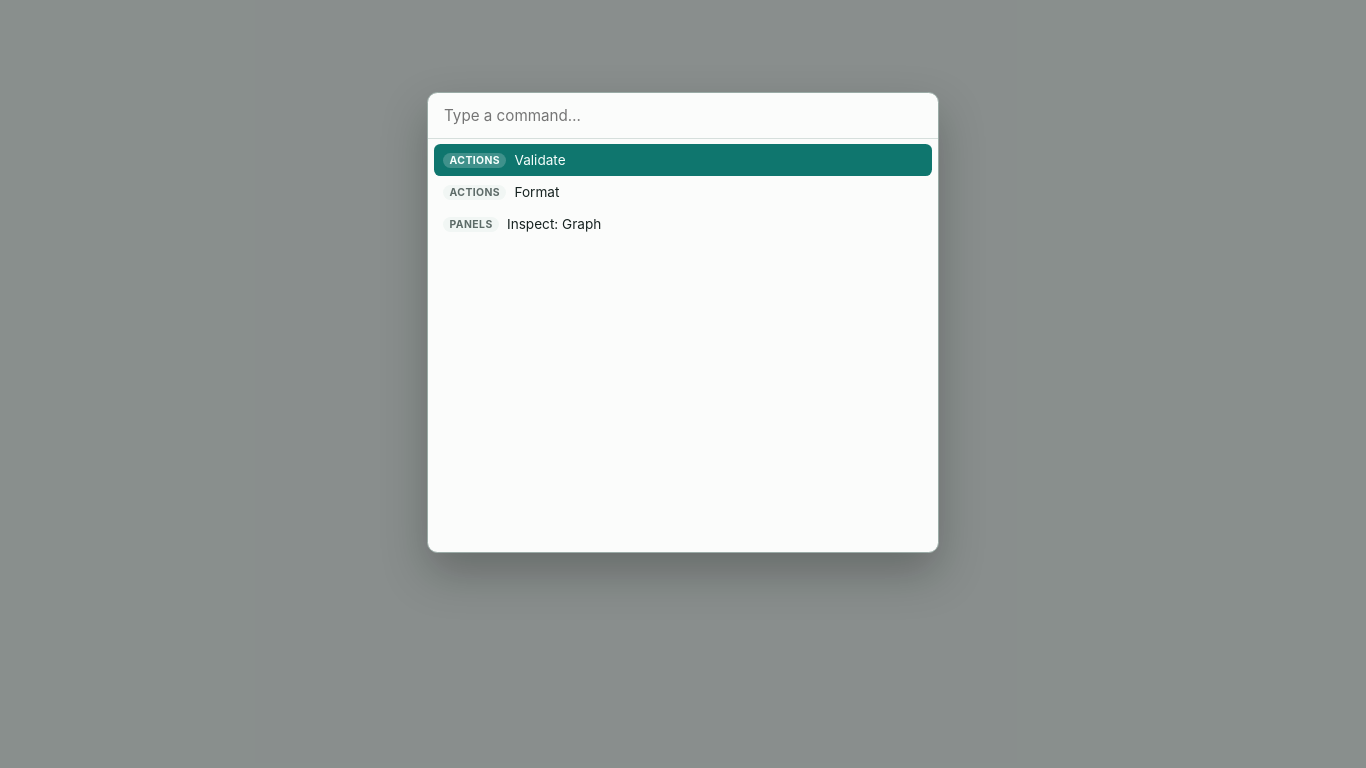
Test: CommandPalette › shows an empty state when nothing matches
Type "nothing matches this" into the dropdown at (683, 116), box [428,93,938,139]
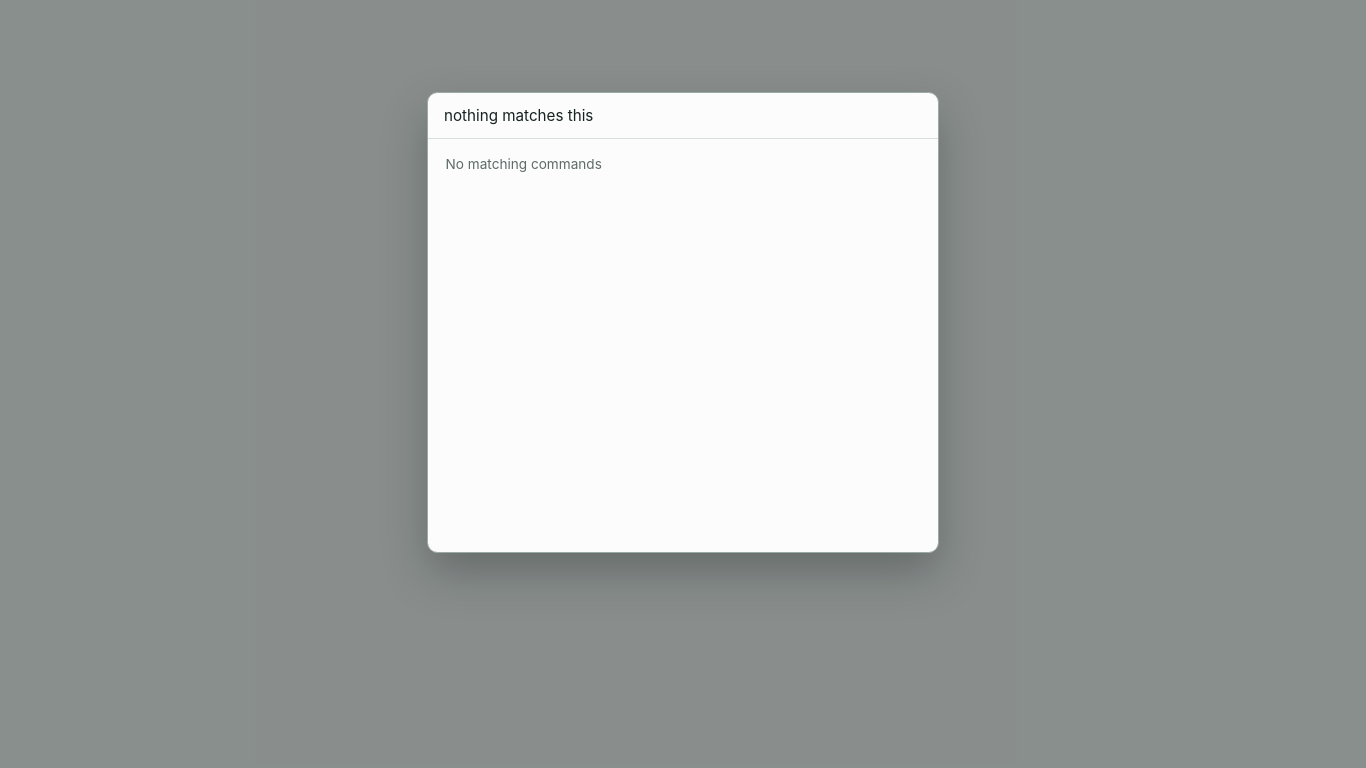
Now the list item "No matching commands" is shown, box [446,156,602,172]
Now no options are shown
